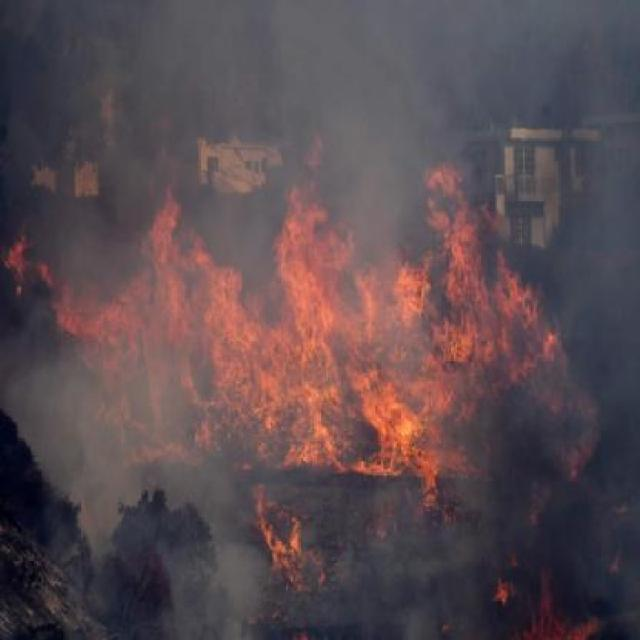Fire: (19, 213, 594, 501), (248, 520, 330, 596)
Smoke: (39, 12, 524, 194)
